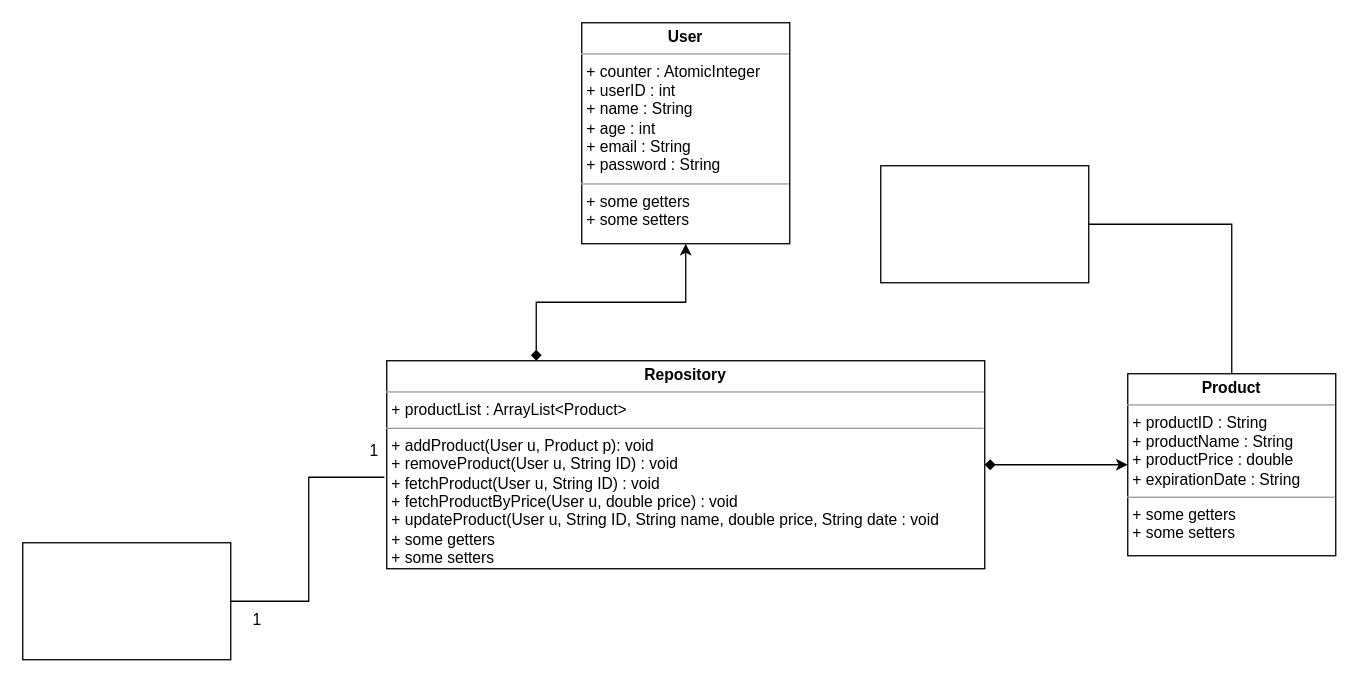
Some shapes in this 1359 by 683 pixel diagram are drawn without their labels. The shapes that lost their labels are listed below. From the top down, each one's box as (x1, y1, x2, y2) in pixels, then its label:
(879, 164, 1089, 283): ProductException + finalVersionUID: Long
(21, 541, 231, 660): Main + main(args : String[]) : void
